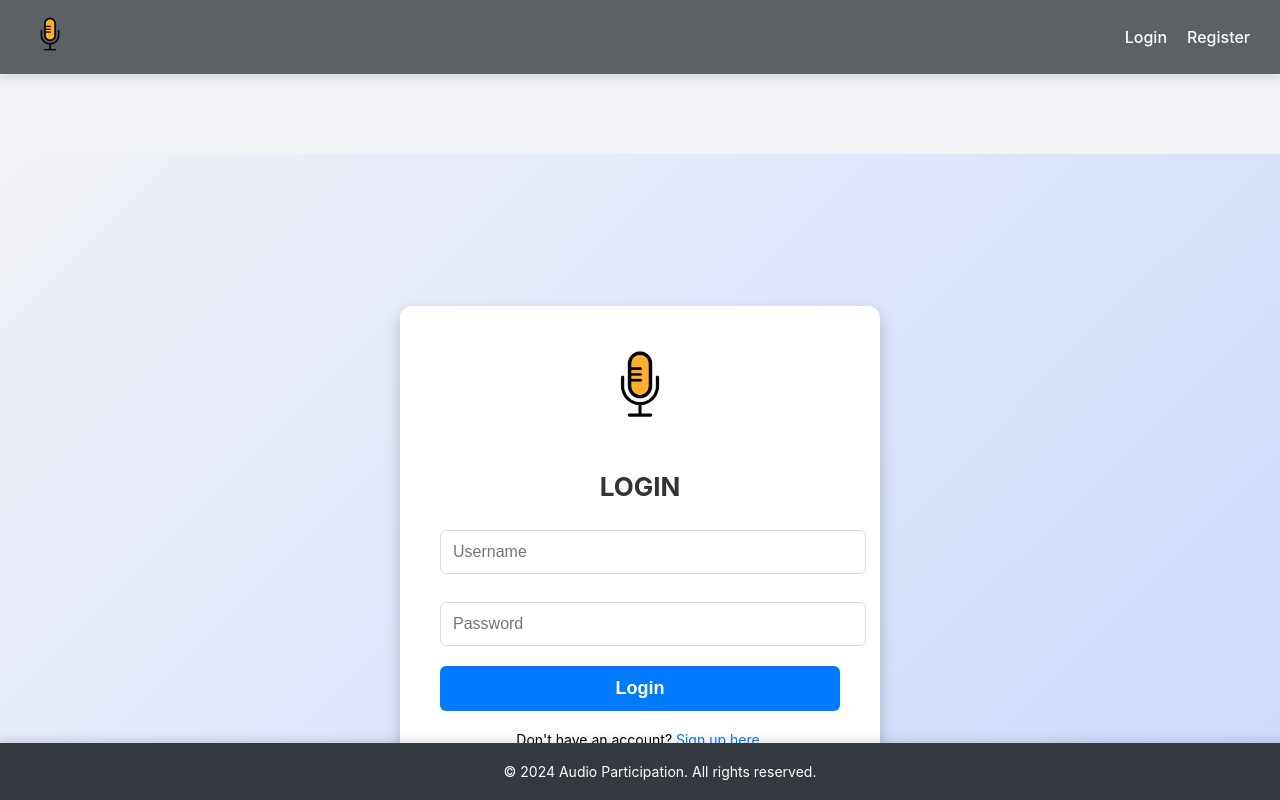
Scenario: User Authentication - Login › should show an error with invalid credentials
Type "invalidUser" into the field with test id "username-input" at point(653, 552), box [440,530,866,574]
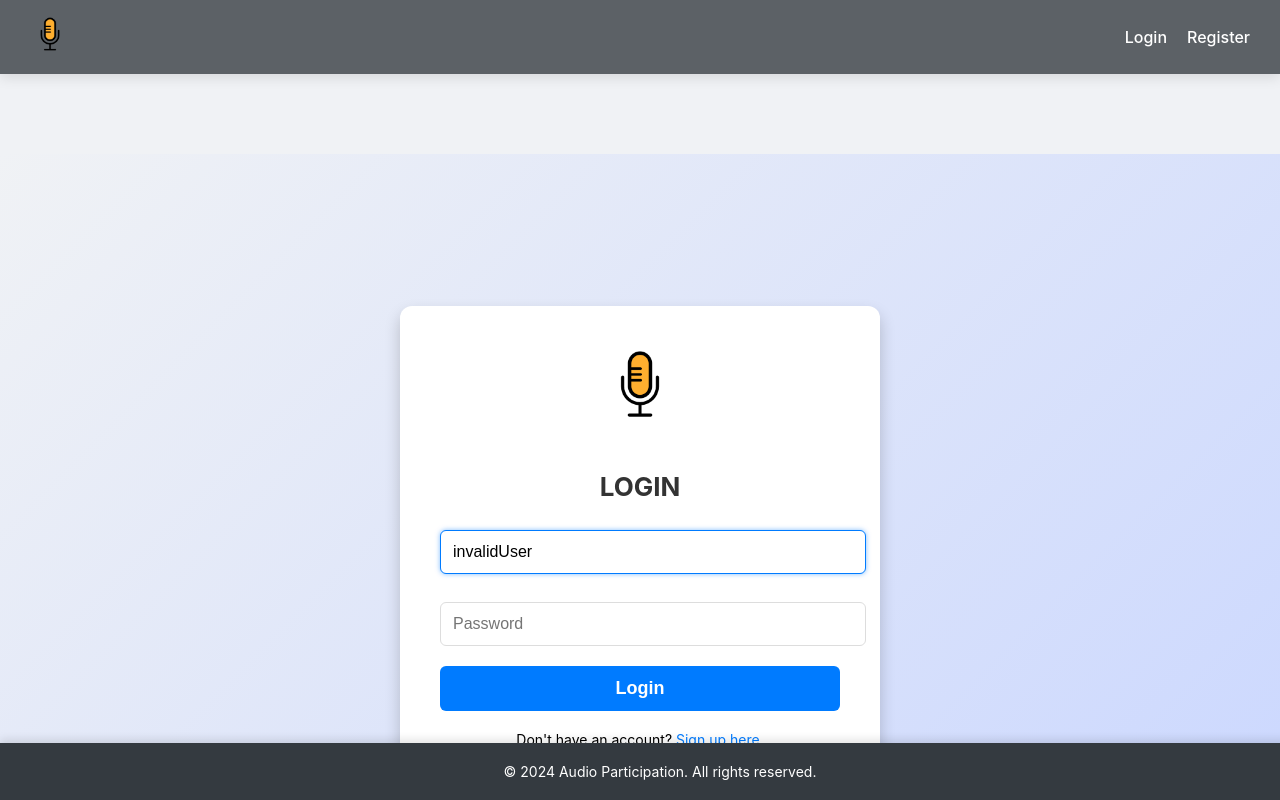
Type "wrongPassword" into the password field with test id "password-input" at point(653, 624), box [440,602,866,646]
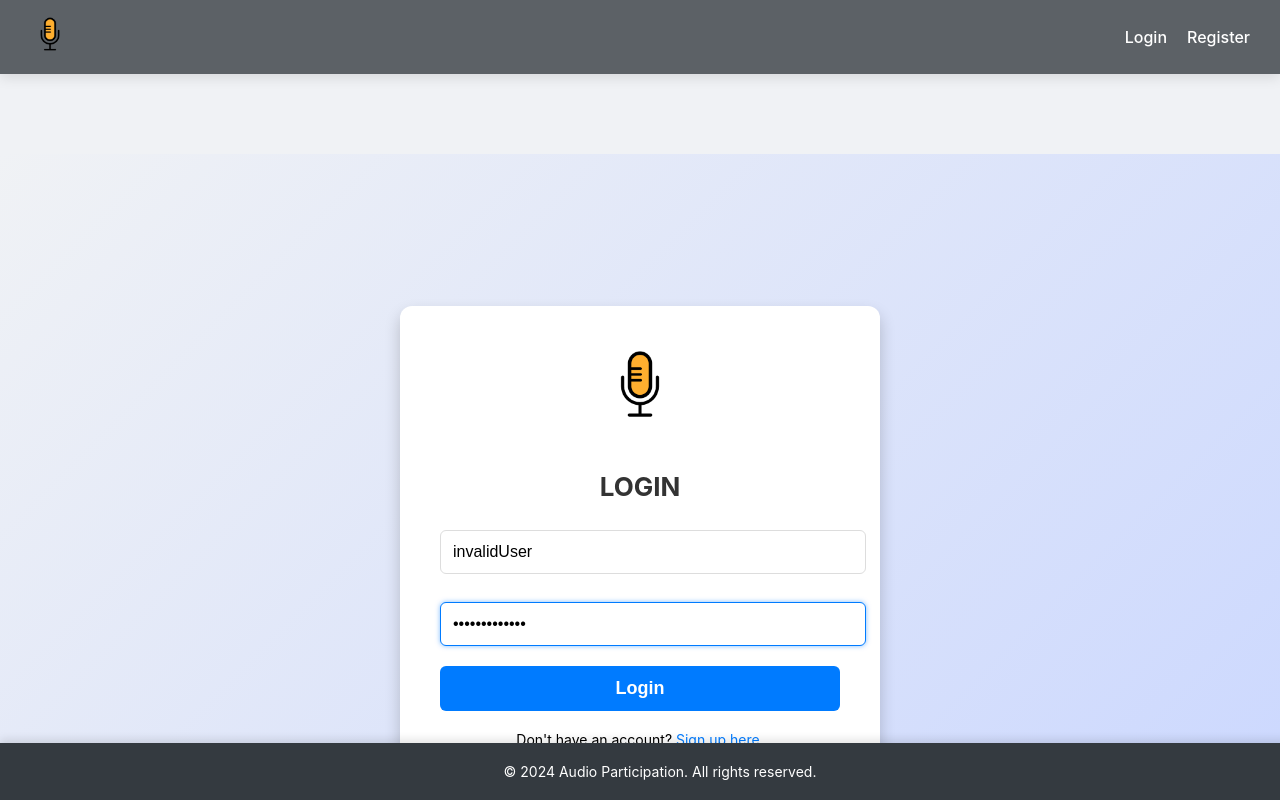
Click the button with test id "login-button" at point(640, 689), box [440,666,840,711]
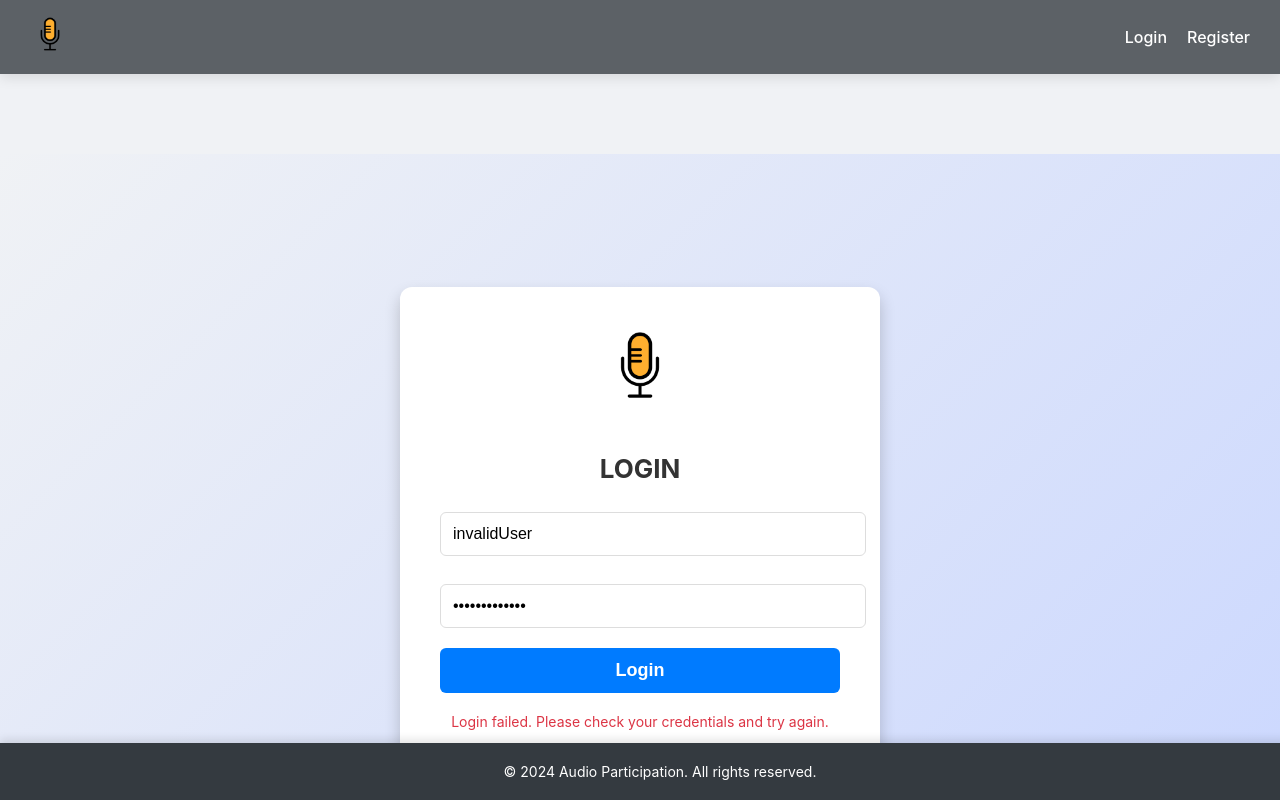
Now the text "Login failed. Please check your credentials and try again." is shown, box [440,713,840,730]
Now the text with test id "login-error" shows "Login failed", box [451,713,829,730]
